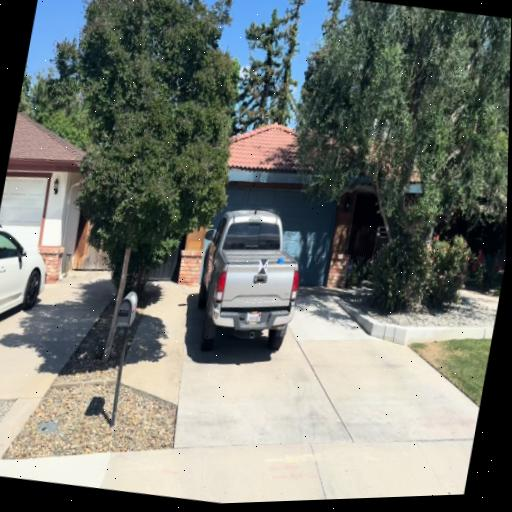target1: (257, 258, 269, 275)
